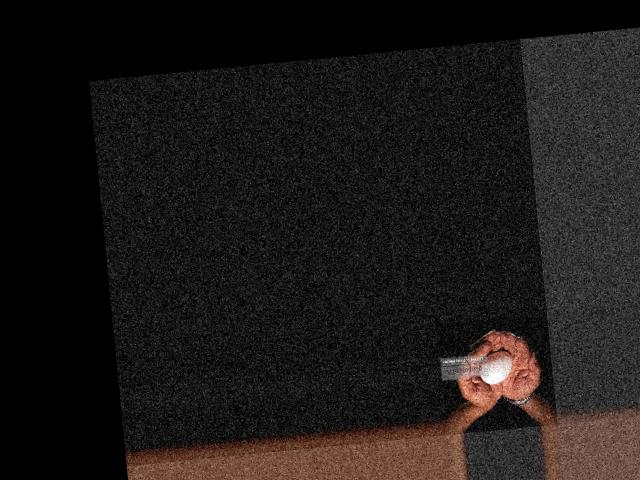egg: (478, 349, 515, 385)
